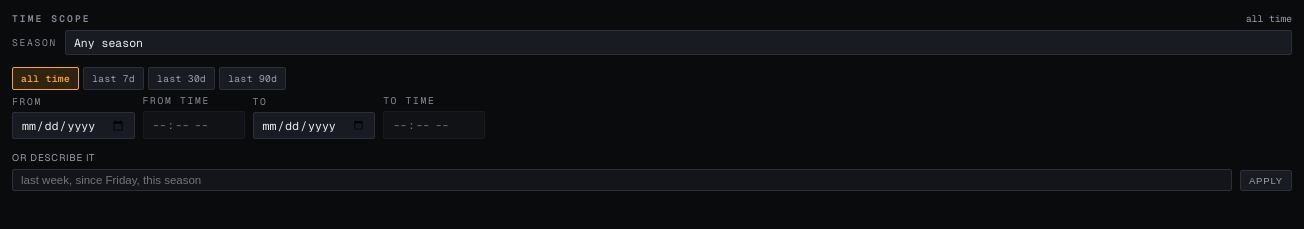
Scenario: NarrowTimeScope date phrases › leaves every date ref untouched when it cannot read the phrase
In the field labelled "Or describe it": (622, 180) x1=12 y1=169 x2=1232 y2=191, type "today"
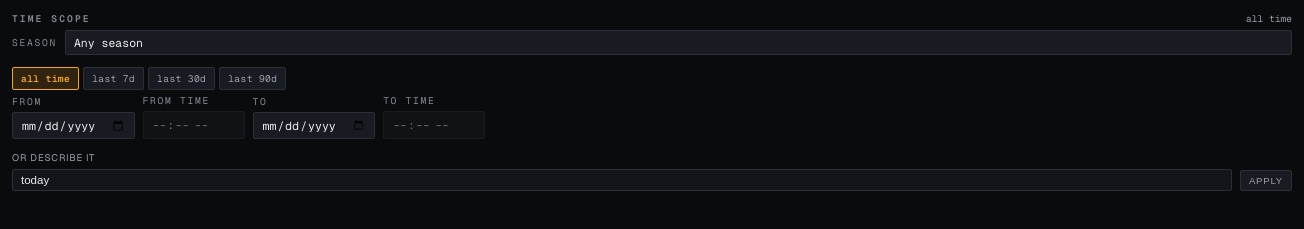
Click the button "Apply": (1266, 181) x1=1240 y1=170 x2=1292 y2=191
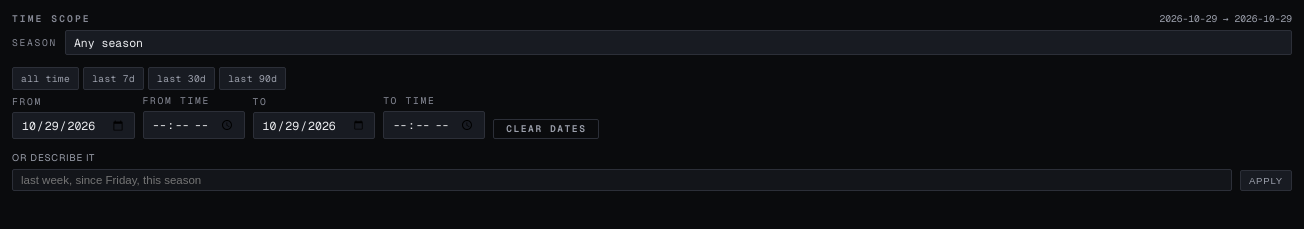
In the field labelled "Or describe it": (622, 180) x1=12 y1=169 x2=1232 y2=191, type "sometime around the Mauga patch"
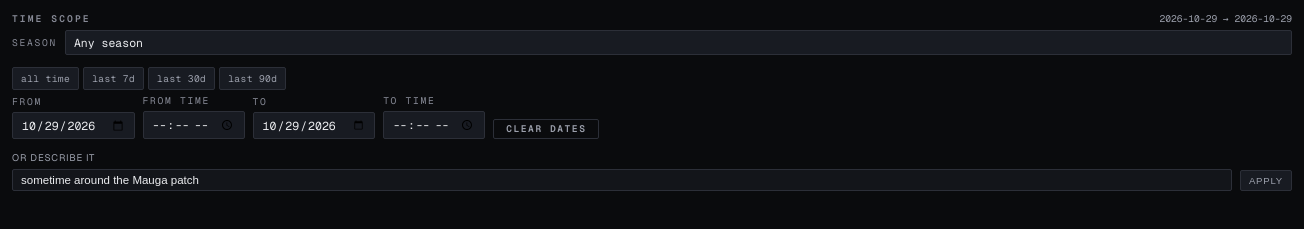
Click the button "Apply": (1266, 181) x1=1240 y1=170 x2=1292 y2=191
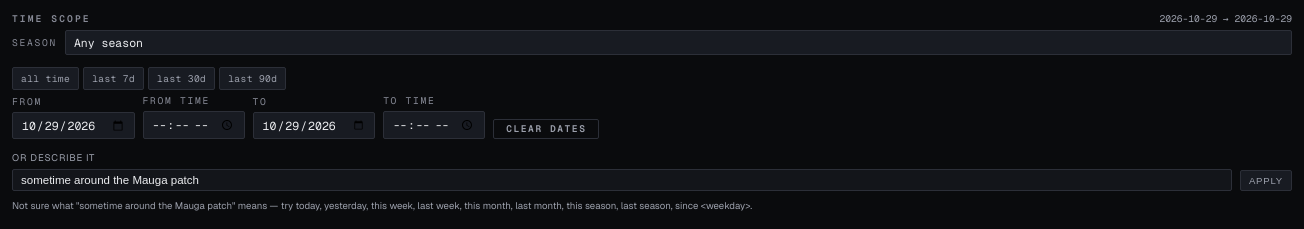
Expected: the text "Not sure what" is shown 2 times
